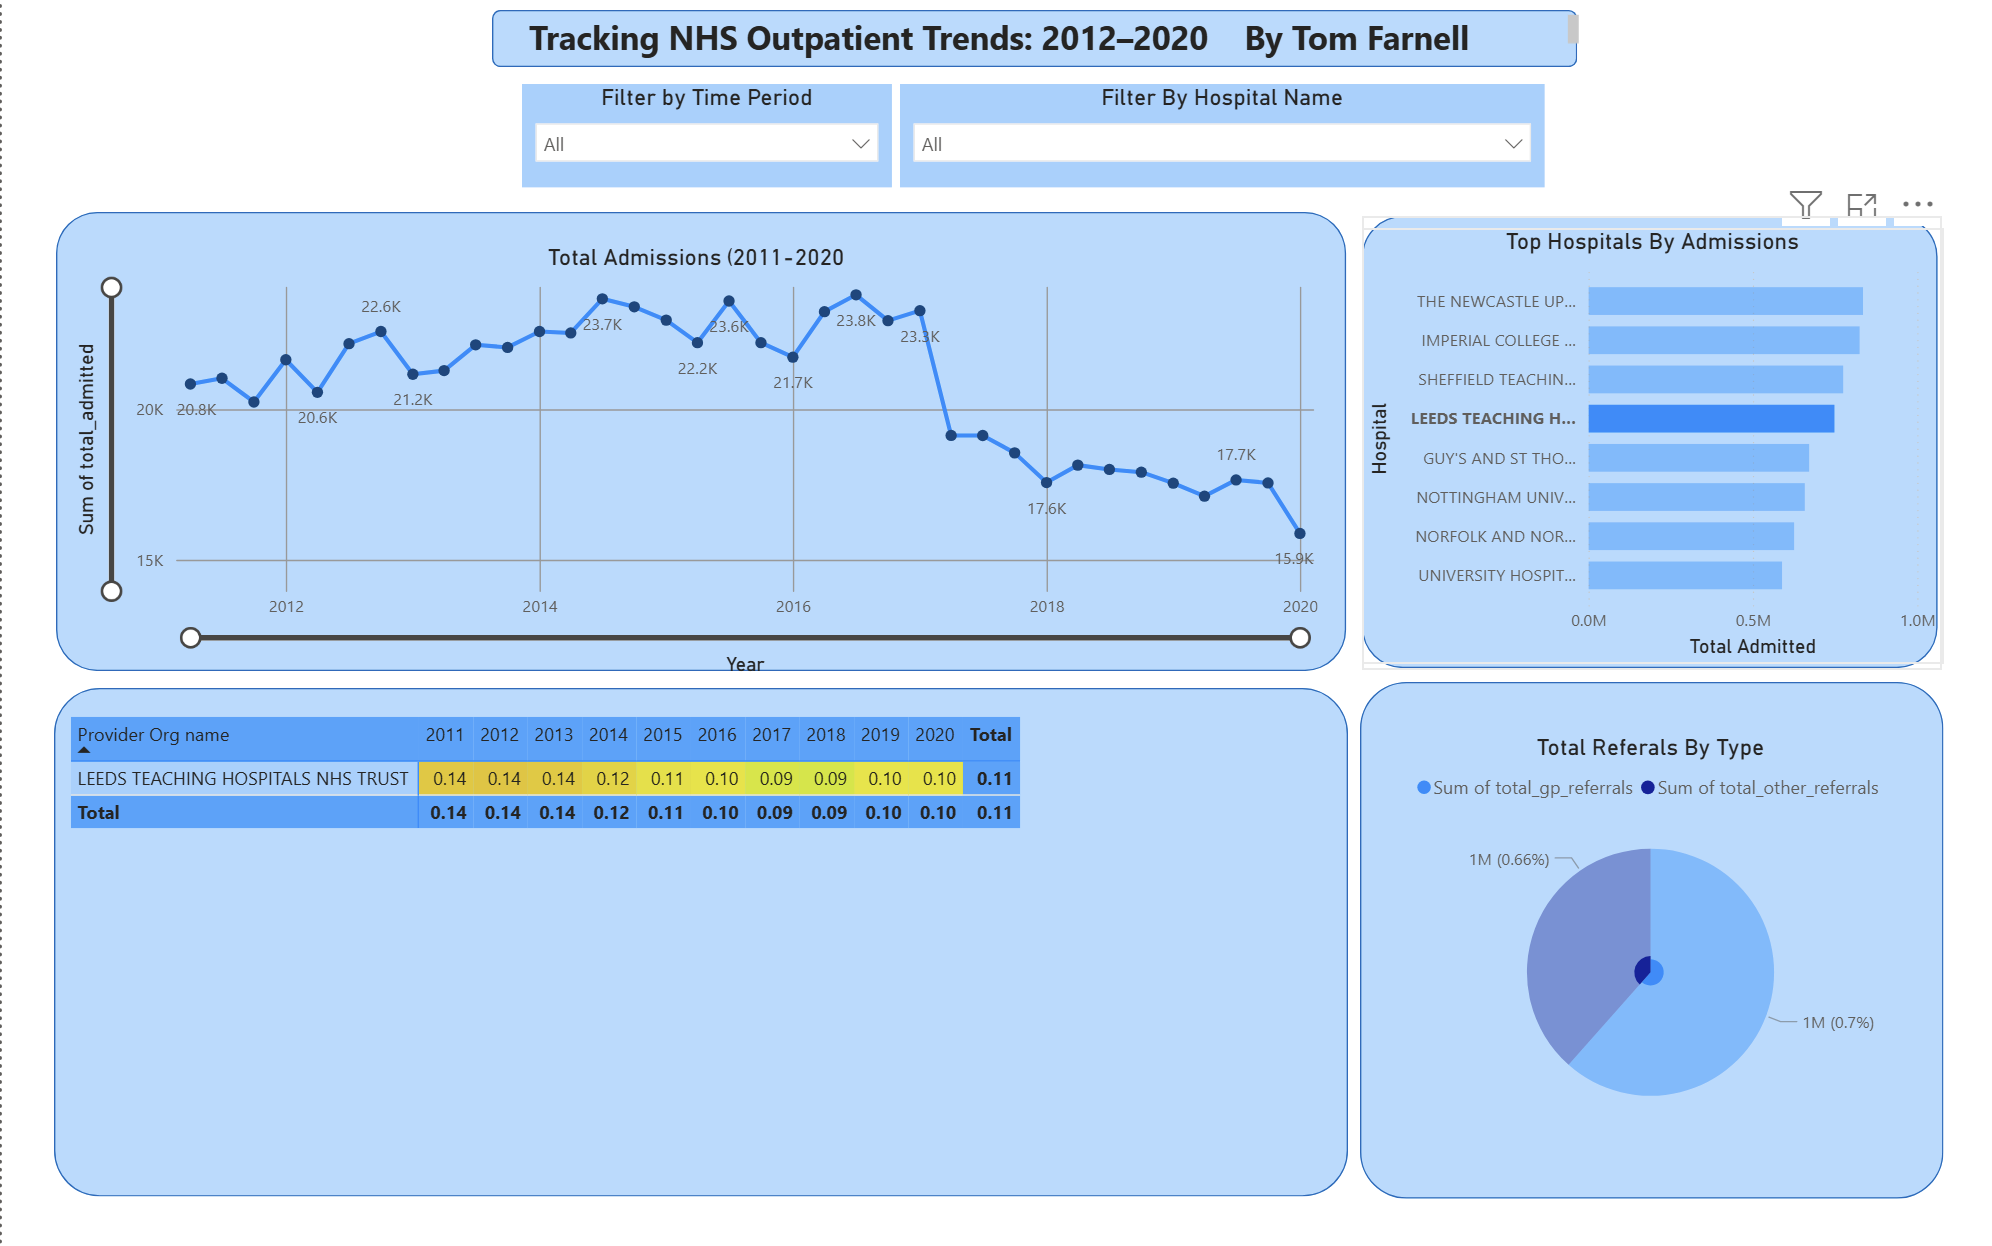

What the dashboard file says about the page in this screenshot:
{"tool":"powerbi","page":{"name":"Page 1","canvas":[1600,1200],"ordinal":0},"visuals":[{"type":"shape","box":[359.7,7.9,798,42],"z":0,"group":"g6"},{"type":"slicer","title":"Filter by Time Period","fields":{"Values":["nhs_dataset_with_quarters.Period.Variation.Date Hierarchy.Year","nhs_dataset_with_quarters.Period.Variation.Date Hierarchy.Quarter"]},"box":[381.5,61.7,272,76],"z":0,"group":"g2"},{"type":"group","id":"g1","title":"Group 2","box":[38.2,505.5,960,374.5],"z":0},{"type":"shape","box":[38.2,505.5,951.6,374],"z":0,"group":"g1"},{"type":"group","id":"g2","title":"Group 1","box":[381.5,5.7,782,132],"z":1000,"group":"g6"},{"type":"slicer","title":"Filter By Hospital Name","fields":{"Values":["nhs_dataset_with_quarters.Provider Org name"]},"box":[659.5,61.7,474,76],"z":1000,"group":"g2"},{"type":"shape","box":[999.5,159.5,423.5,332.7],"z":1000,"group":"g4"},{"type":"group","id":"g3","title":"Group 3","box":[998.2,501.8,429.1,380],"z":1000},{"type":"textbox","box":[381.5,5.7,782,48],"z":2000,"group":"g2"},{"type":"group","id":"g4","title":"Group 4","box":[999.5,159.5,427.3,332.7],"z":2000},{"type":"shape","box":[998.2,501.8,429.1,380],"z":2000,"group":"g3"},{"type":"group","id":"g5","title":"Group 5","box":[40,156.4,949.1,345.5],"z":3000},{"type":"shape","box":[40,156.4,949.1,337.7],"z":3000,"group":"g5"},{"type":"group","id":"g6","title":"Group 6","box":[359.7,5.7,803.8,132],"z":4000},{"type":"lineChart","title":"Total Admissions (2011-2020","fields":{"Y":["Sum(nhs_dataset_with_quarters.total_admitted)"],"Category":["nhs_dataset_with_quarters.Period.Variation.Date Hierarchy.Year","nhs_dataset_with_quarters.Period.Variation.Date Hierarchy.Quarter"]},"box":[49.3,180.5,923.8,321.3],"z":4000,"group":"g5"},{"type":"barChart","title":"Top Hospitals By Admissions","fields":{"Category":["nhs_dataset_with_quarters.Provider Org name"],"Y":["Sum(nhs_dataset_with_quarters.total_admitted)"]},"box":[999.5,168.6,427.3,320.3],"z":5000,"group":"g4"},{"type":"pivotTable","fields":{"Rows":["nhs_dataset_with_quarters.Provider Org name"],"Columns":["nhs_dataset_with_quarters.Period.Variation.Date Hierarchy.Year","nhs_dataset_with_quarters.Period.Variation.Date Hierarchy.Quarter"],"Values":["nhs_dataset_with_quarters.First DNA Rate"]},"box":[46.2,521.5,951.6,344],"z":6000,"group":"g1"},{"type":"pieChart","title":"Total Referals By Type","fields":{"Y":["Sum(nhs_dataset_with_quarters.total_gp_referrals)","Sum(nhs_dataset_with_quarters.total_other_referrals)"]},"box":[1017.9,540.3,389.1,301.8],"z":7000,"group":"g3"}]}

Visuals, with their boxes on the page's 1600x1200 design canvas (x1, y1, x2, y2). These are canvas units, not pixel positions in the 1992x1246 screenshot, which may show the page scaled, cropped or inside an application window:
shape: x1=360, y1=8, x2=1158, y2=50
"Filter by Time Period" slicer: x1=382, y1=62, x2=654, y2=138
"Group 2" group: x1=38, y1=506, x2=998, y2=880
shape: x1=38, y1=506, x2=990, y2=880
"Group 1" group: x1=382, y1=6, x2=1164, y2=138
"Filter By Hospital Name" slicer: x1=660, y1=62, x2=1134, y2=138
shape: x1=1000, y1=160, x2=1423, y2=492
"Group 3" group: x1=998, y1=502, x2=1427, y2=882
textbox: x1=382, y1=6, x2=1164, y2=54
"Group 4" group: x1=1000, y1=160, x2=1427, y2=492
shape: x1=998, y1=502, x2=1427, y2=882
"Group 5" group: x1=40, y1=156, x2=989, y2=502
shape: x1=40, y1=156, x2=989, y2=494
"Group 6" group: x1=360, y1=6, x2=1164, y2=138
"Total Admissions (2011-2020" lineChart: x1=49, y1=180, x2=973, y2=502
"Top Hospitals By Admissions" barChart: x1=1000, y1=169, x2=1427, y2=489
pivotTable - nhs_dataset_with_quarters.Provider Org name x nhs_dataset_with_quarters.Period.Variation.Date Hierarchy.Year: x1=46, y1=522, x2=998, y2=866
"Total Referals By Type" pieChart: x1=1018, y1=540, x2=1407, y2=842
